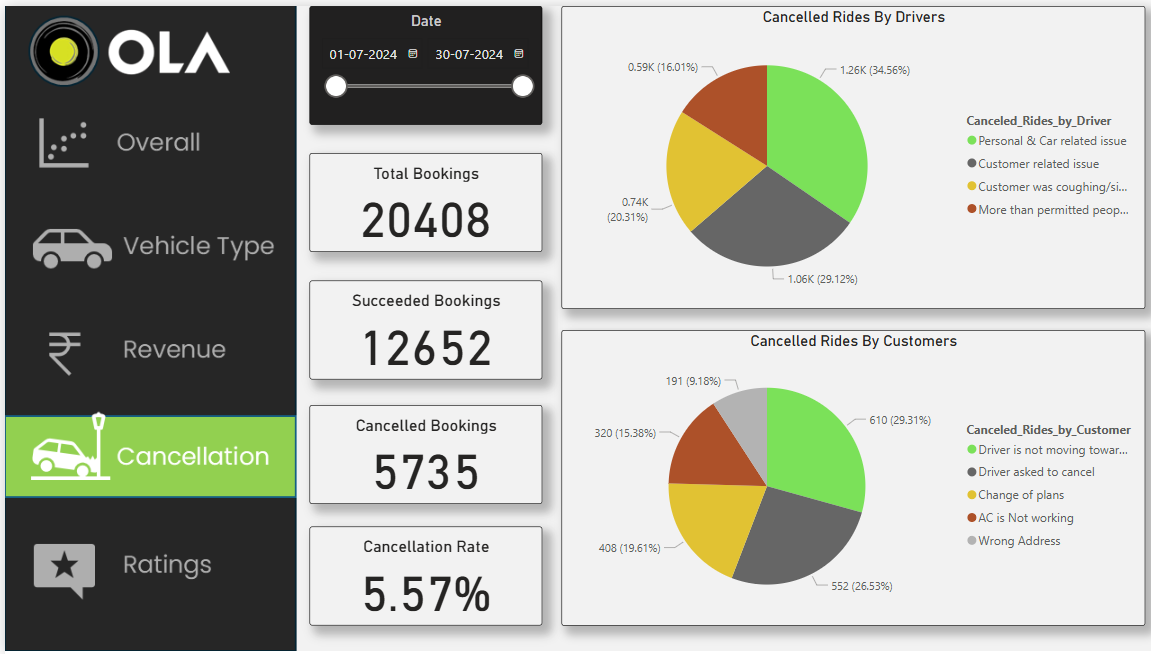

What the dashboard file says about the page in this screenshot:
{"tool":"powerbi","page":{"name":" Cancellation","canvas":[1280,720],"ordinal":3},"visuals":[{"type":"actionButton","box":[0,221.2,323.7,94.3],"z":0},{"type":"actionButton","box":[0,336.7,323.7,94.3],"z":1000},{"type":"actionButton","box":[0,107.4,323.7,94.3],"z":2000},{"type":"actionButton","box":[0,574.2,323.7,94.3],"z":3000},{"type":"pieChart","title":"Cancelled Rides By Drivers","fields":{"Category":["July.Canceled_Rides_by_Driver"],"Y":["CountNonNull(July.Canceled_Rides_by_Driver)"]},"box":[618.3,0,648.3,336.7],"z":3001},{"type":"pieChart","title":"Cancelled Rides By Customers","fields":{"Category":["July.Canceled_Rides_by_Customer"],"Y":["CountNonNull(July.Canceled_Rides_by_Customer)"]},"box":[618.3,360,648.3,328.3],"z":3002},{"type":"slicer","title":"Date","fields":{"Values":["July.Date"]},"box":[338.3,0,258.3,131.7],"z":3003},{"type":"card","title":"Total Bookings","fields":{"Values":["Count(July.Booking_ID)"]},"box":[338.3,163.3,258.3,110],"z":3004},{"type":"card","title":"Succeeded Bookings","fields":{"Values":["Count(July.Booking_ID)"]},"box":[338.3,305,258.3,110],"z":3005},{"type":"card","title":"Cancelled Bookings","fields":{"Values":["Count(July.Booking_ID)"]},"box":[338.3,443.3,258.3,110],"z":3006},{"type":"card","title":"Cancellation Rate","fields":{"Values":["July.cancelledBookingPerc"]},"box":[338.3,578.3,258.3,110],"z":3007}]}

Visuals, with their boxes in screenshot pixels (x1, y1, x2, y2), scaled from the page's 1280x720 canvas onto the 1151x654 screenshot:
actionButton: x1=0, y1=201, x2=291, y2=287
actionButton: x1=0, y1=306, x2=291, y2=391
actionButton: x1=0, y1=98, x2=291, y2=183
actionButton: x1=0, y1=522, x2=291, y2=607
"Cancelled Rides By Drivers" pieChart: x1=556, y1=0, x2=1139, y2=306
"Cancelled Rides By Customers" pieChart: x1=556, y1=327, x2=1139, y2=625
"Date" slicer: x1=304, y1=0, x2=536, y2=120
"Total Bookings" card: x1=304, y1=148, x2=536, y2=248
"Succeeded Bookings" card: x1=304, y1=277, x2=536, y2=377
"Cancelled Bookings" card: x1=304, y1=403, x2=536, y2=503
"Cancellation Rate" card: x1=304, y1=525, x2=536, y2=625
